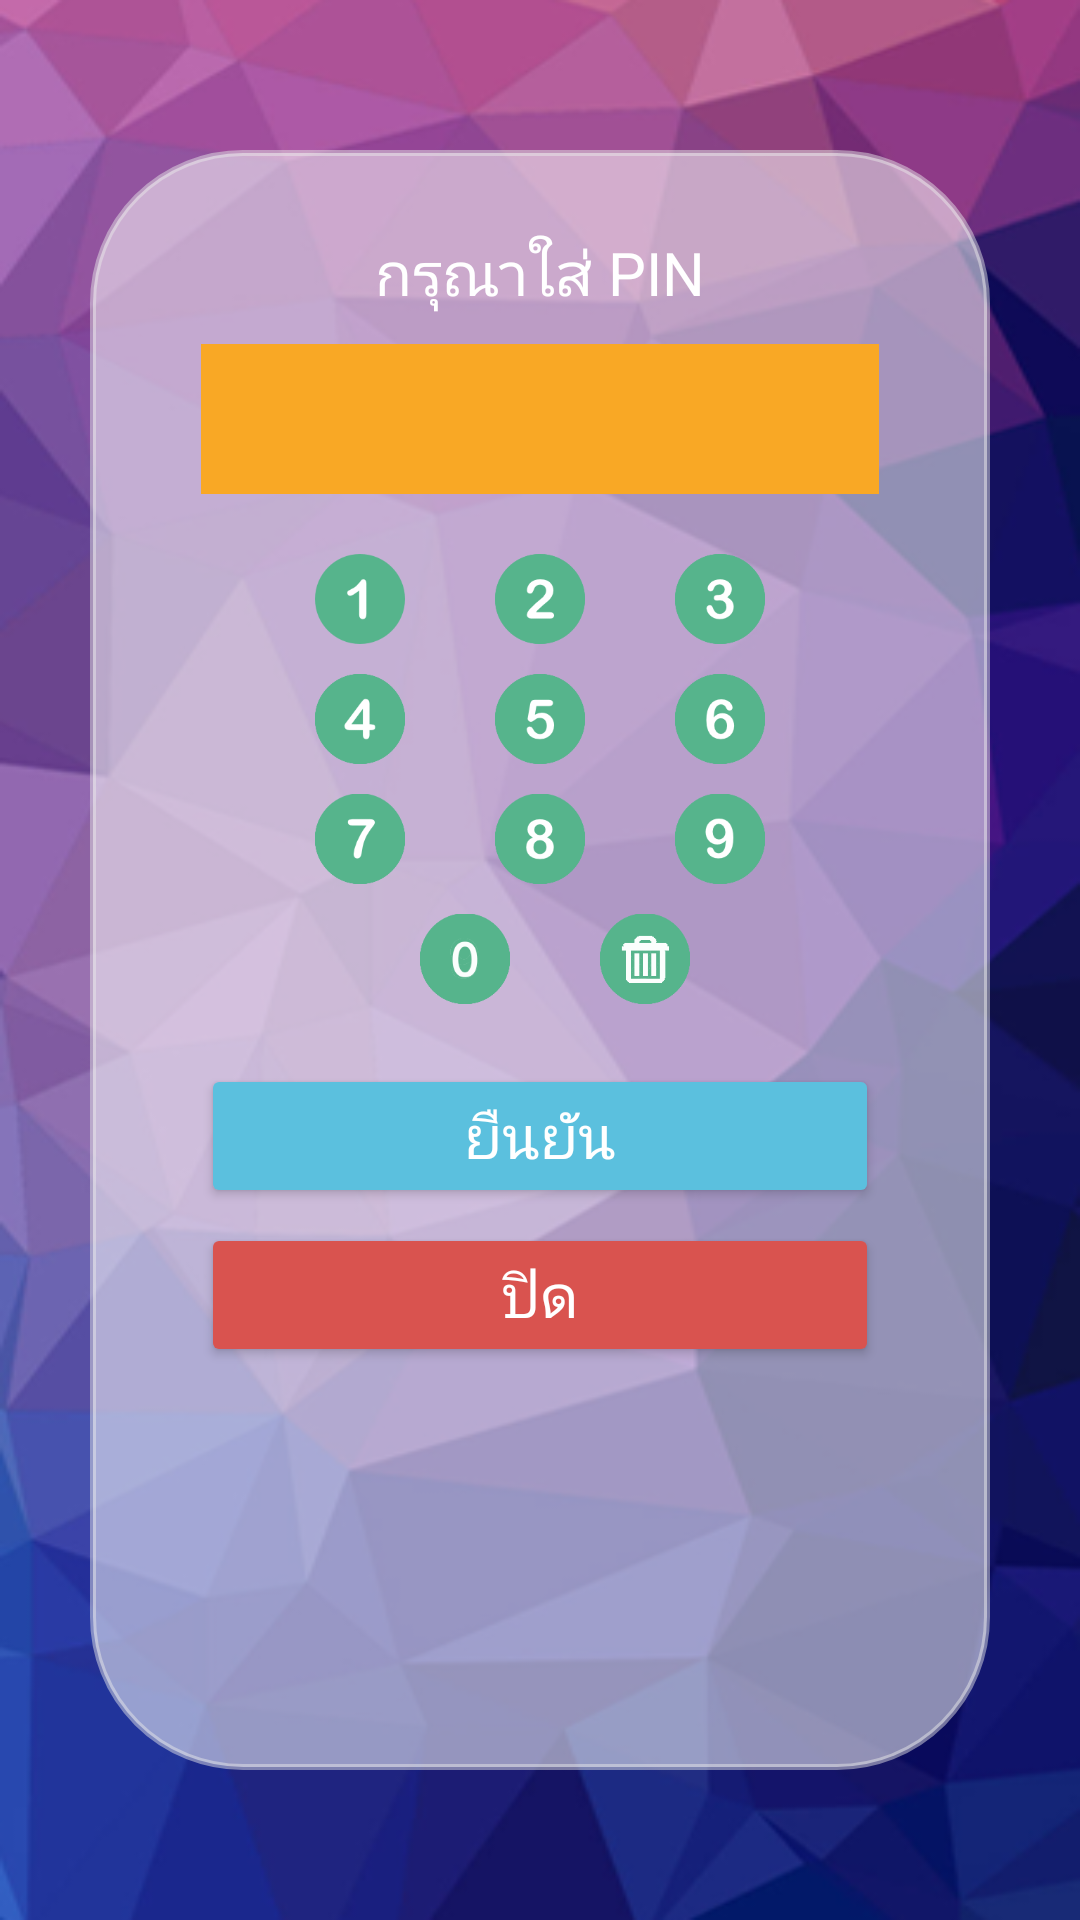

Icon bounding boxes for this 1080×1920 phone screenshot, format (x1, y1, x2, y2):
delete: (600, 914, 690, 1004)
